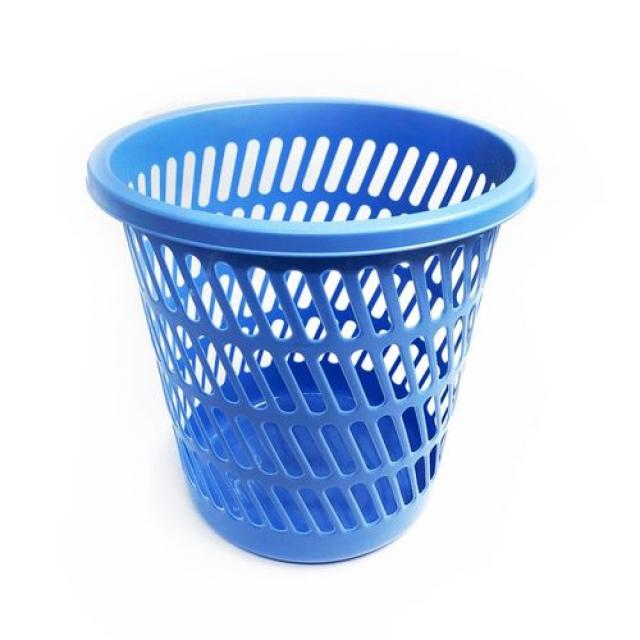Dustbin: (80, 91, 544, 569)
